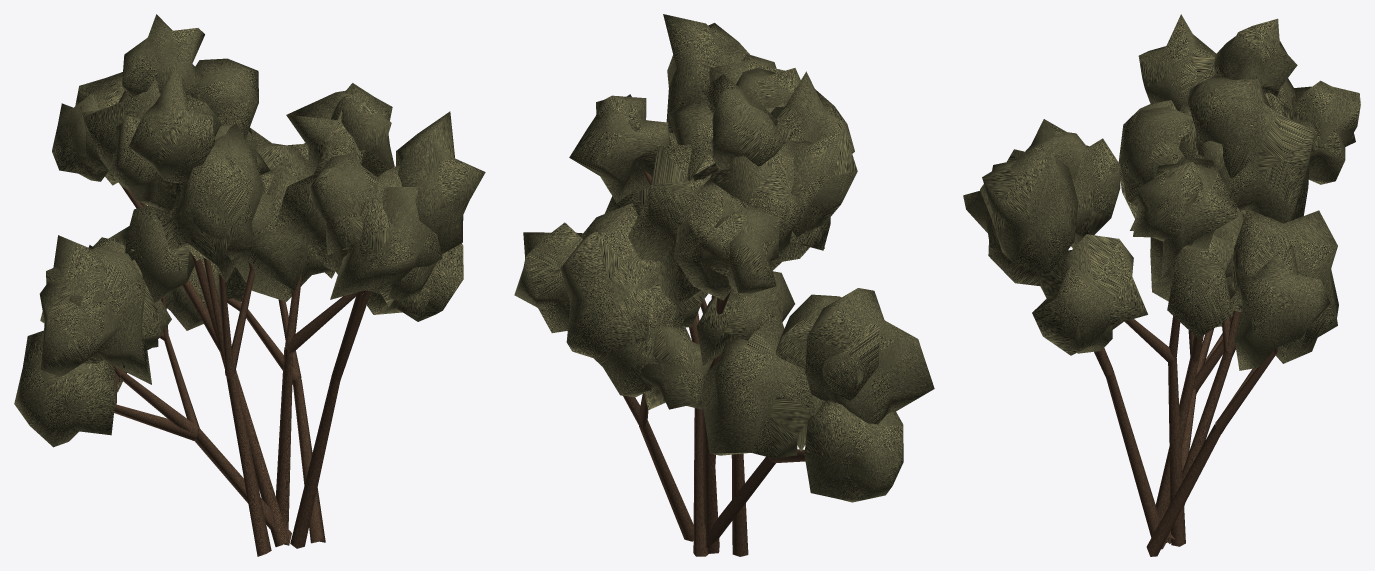
The model's file is shrub_3.dae.
3 views of the same model, side by side, from view 1: azimuth 30°, elevation 25°; view 2: azimuth 150°, elevation 25°; view 3: azimuth 270°, elevation 25° (orthographic). The views are drawn at different scales.
Visible parts, largest first — view 1: shrub_3-node; view 2: shrub_3-node; view 3: shrub_3-node.
Part boxes in pixels (left/top/right/bottom): shrub_3-node: left=14, top=14, right=485, bottom=556; shrub_3-node: left=514, top=14, right=934, bottom=556; shrub_3-node: left=963, top=14, right=1360, bottom=556.
Size of the model in its own units: 0.7408 by 0.7352 by 1.
Materials: 1 (1 with a texture image).
